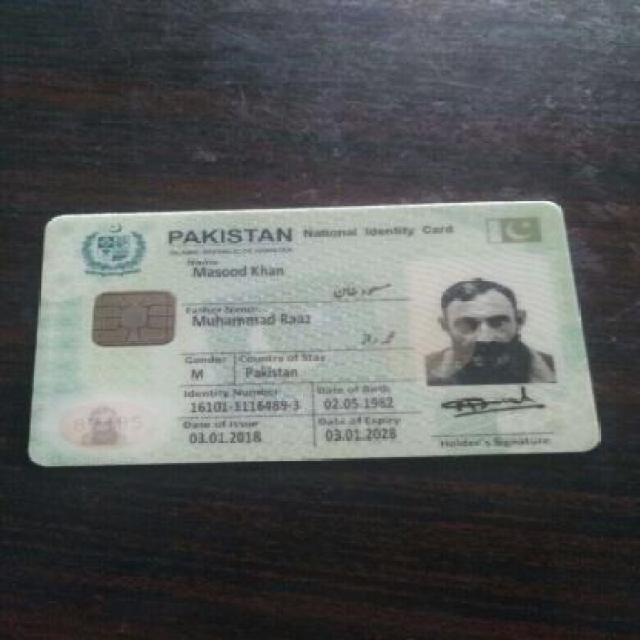Front: (17, 200, 601, 465)
